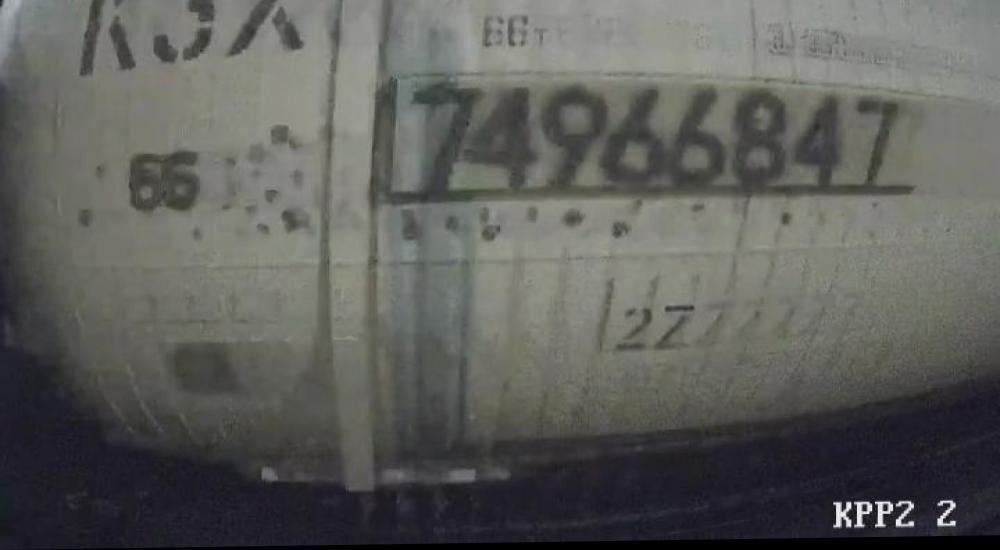Wagon-number: (408, 74, 903, 197)
